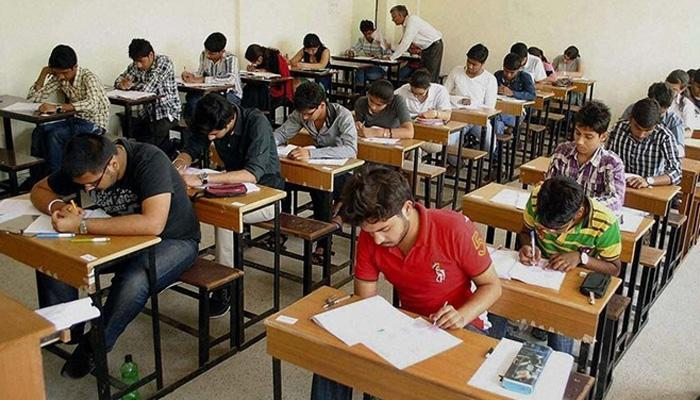invigilator: (384, 5, 447, 75)
student: (327, 161, 511, 370), (28, 126, 198, 296), (471, 160, 633, 310), (528, 100, 647, 234), (156, 96, 292, 207), (273, 76, 367, 180), (24, 48, 117, 130), (340, 64, 421, 151), (112, 34, 185, 124), (178, 23, 248, 98), (395, 67, 450, 132), (241, 40, 303, 95), (287, 34, 334, 77)
studentcopying: (442, 42, 506, 120)
